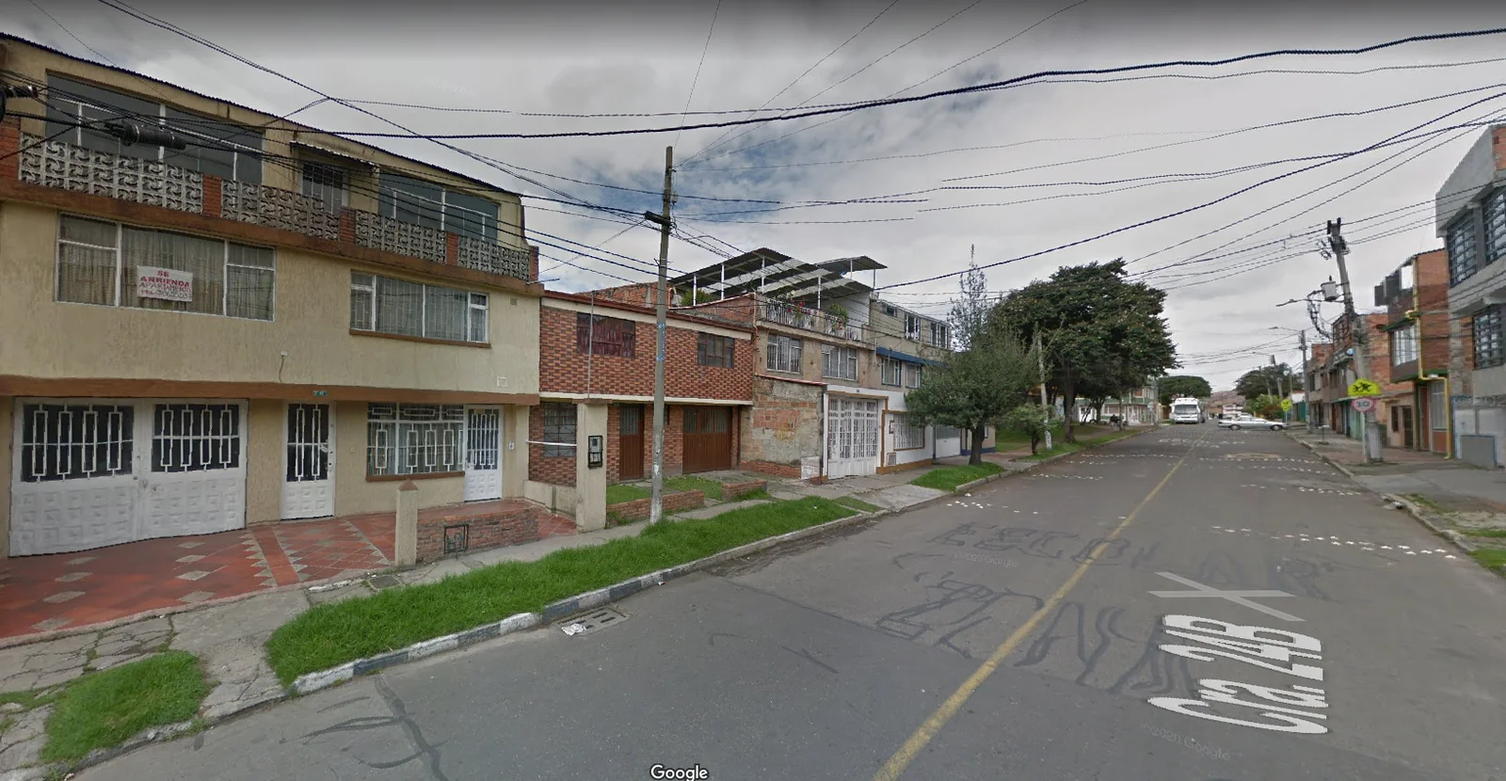House: (9, 37, 558, 558), (726, 241, 967, 485), (539, 250, 729, 537), (1417, 131, 1506, 466)
